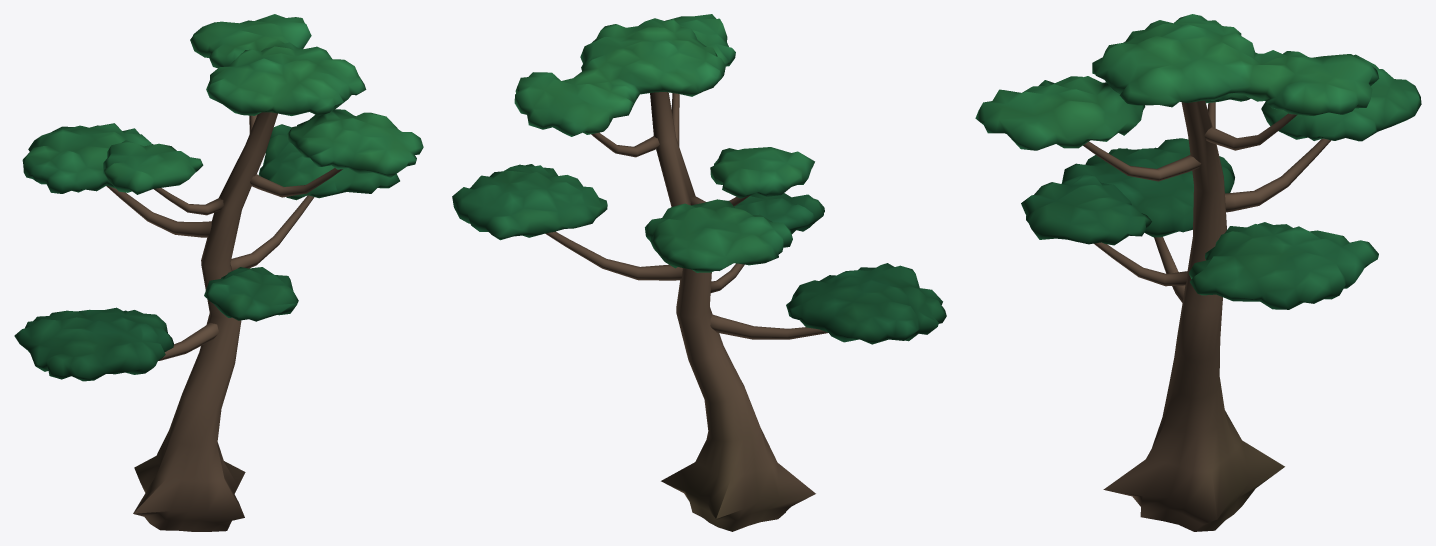
The model's file is tree-pine.glb.
3 views of the same model, side by side, from view 1: azimuth 30°, elevation 25°; view 2: azimuth 150°, elevation 25°; view 3: azimuth 270°, elevation 25° (orthographic). The views are drawn at different scales.
Parts seen in each view (by area): view 1: Pine Needles, Pine Bark; view 2: Pine Needles, Pine Bark; view 3: Pine Needles, Pine Bark.
Boxes of the visible parts, left/top/right/bottom form: Pine Needles: left=14, top=14, right=423, bottom=381; Pine Bark: left=106, top=112, right=342, bottom=531; Pine Needles: left=452, top=14, right=946, bottom=344; Pine Bark: left=545, top=92, right=828, bottom=531; Pine Needles: left=975, top=14, right=1421, bottom=309; Pine Bark: left=1083, top=100, right=1331, bottom=531.
Size of the model in its own units: 6.5 by 6.78 by 5.2.
